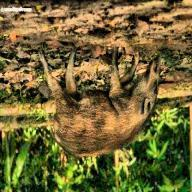boar: (27, 39, 176, 166)
